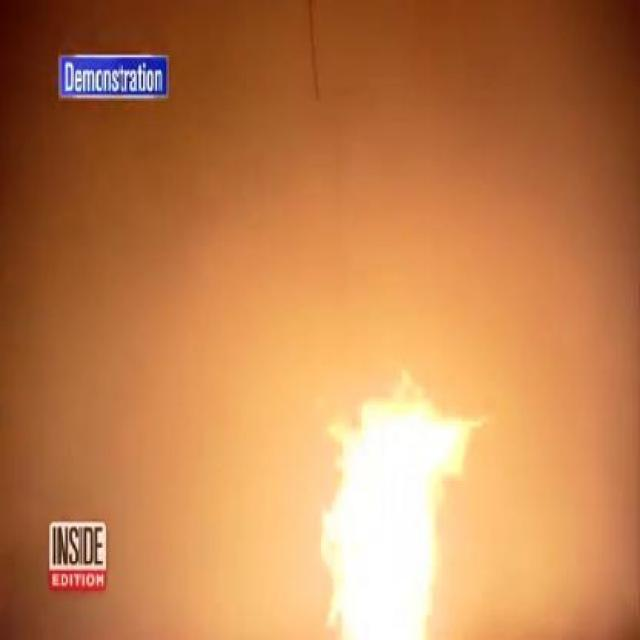fire: (292, 337, 488, 640)
